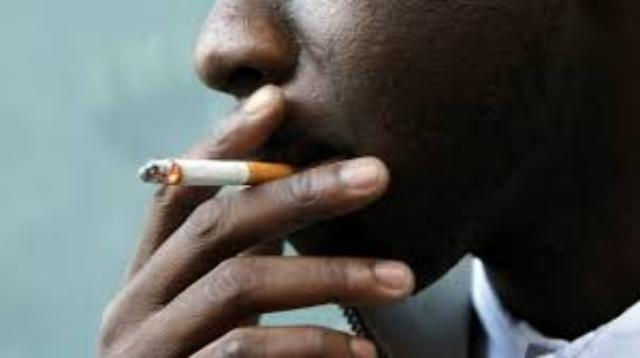Cigarette: (138, 159, 300, 188)
